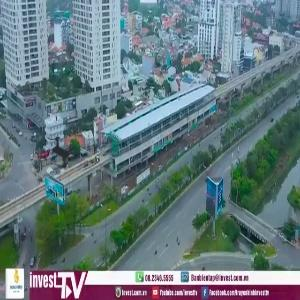drone: (22, 113, 100, 191)
